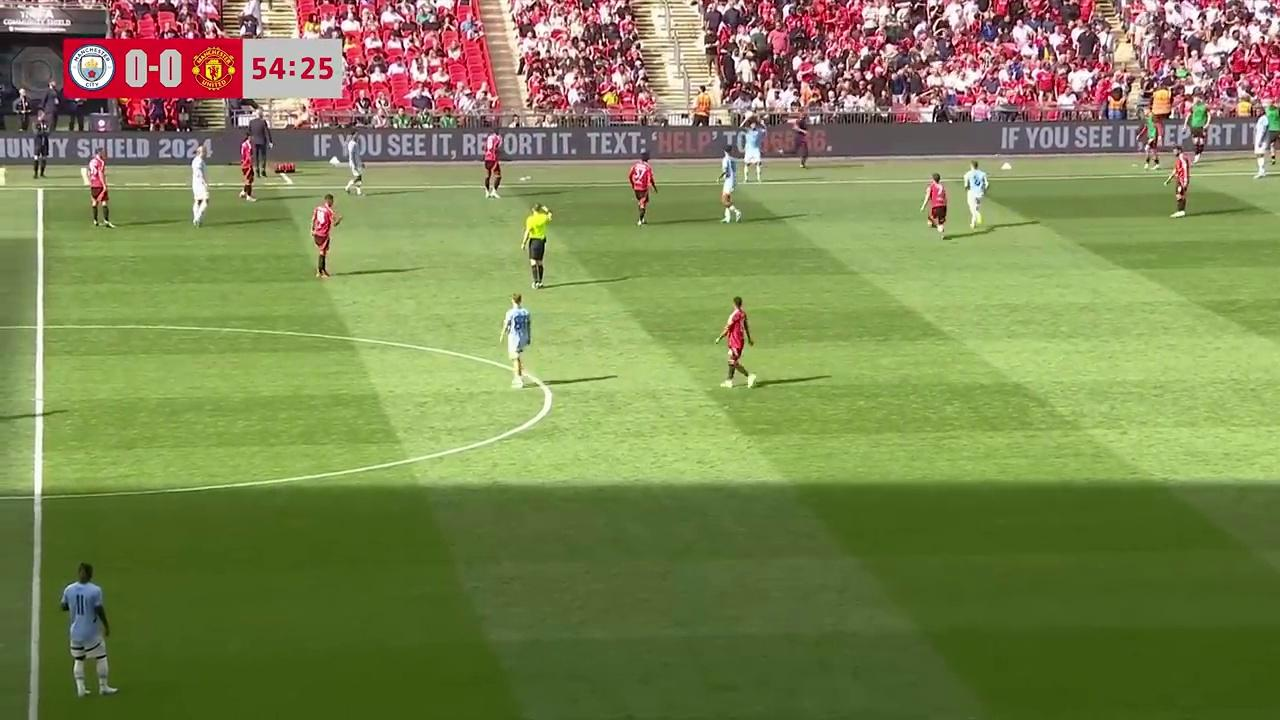player: (59, 561, 117, 699), (716, 296, 754, 388), (499, 293, 533, 386), (311, 193, 341, 279), (85, 146, 113, 228), (628, 158, 656, 225), (963, 162, 989, 231), (718, 152, 741, 224), (921, 174, 947, 237), (1166, 153, 1189, 217), (739, 121, 762, 183), (344, 133, 366, 196), (190, 157, 209, 227), (482, 137, 502, 199), (238, 136, 256, 200)
referee: (522, 204, 551, 289)
